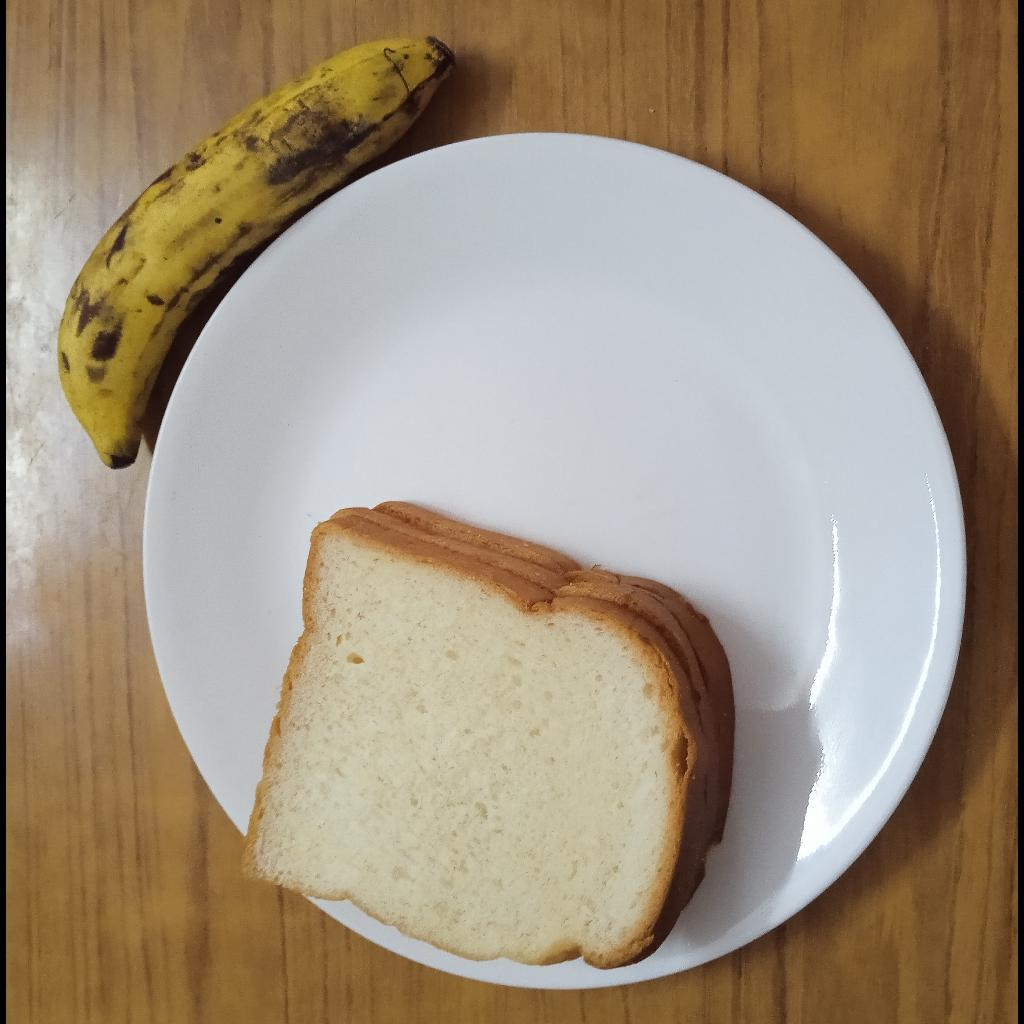banana: (54, 38, 456, 468)
bread: (243, 501, 735, 970)
